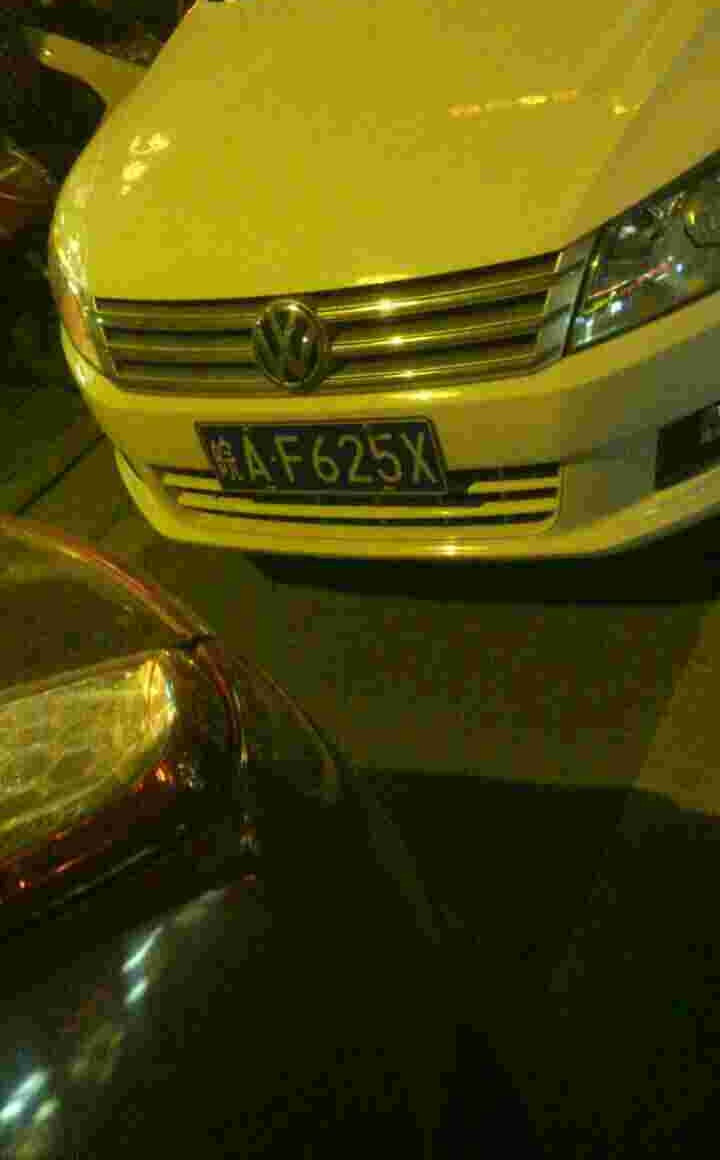license_plate: (210, 422, 445, 487)
